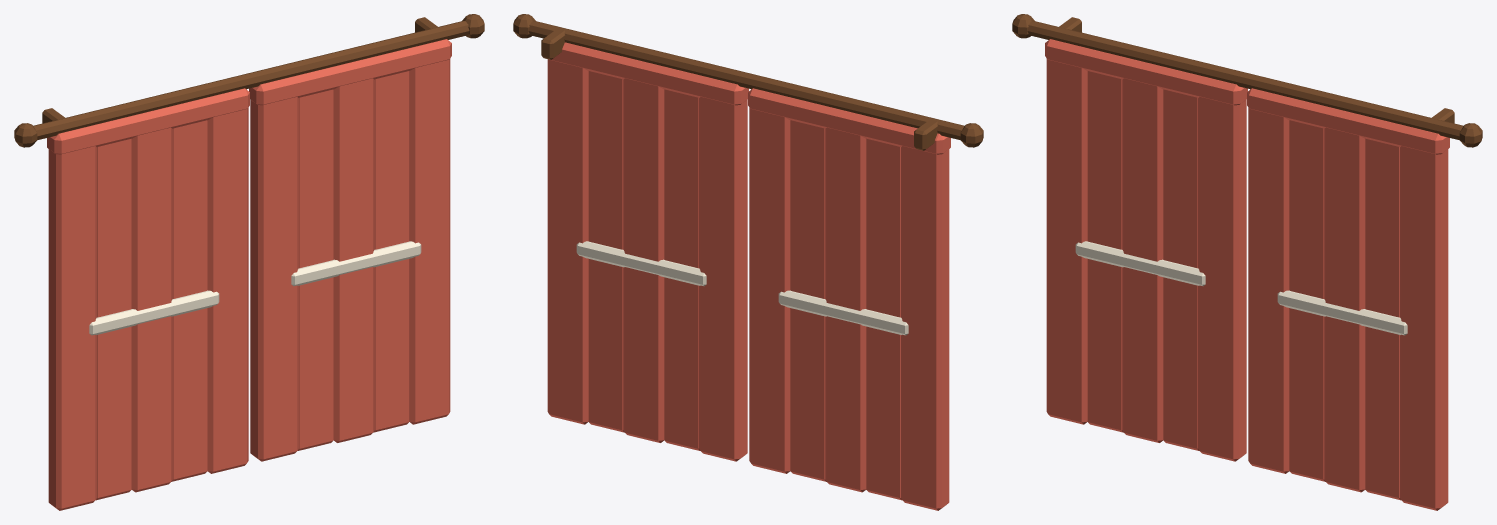
Rendered from window_curtains.glb.
The picture shows the model from 3 angles, left to right: view 1: azimuth 30°, elevation 25°; view 2: azimuth 150°, elevation 25°; view 3: azimuth 330°, elevation 25°; orthographic projection.
Visible parts, largest first — view 1: part_curtain_l, part_curtain_r, window_curtains; view 2: part_curtain_r, part_curtain_l, window_curtains; view 3: part_curtain_r, part_curtain_l, window_curtains.
Boxes of the visible parts, left/top/right/bottom form: part_curtain_l: left=47, top=88, right=249, bottom=510; part_curtain_r: left=249, top=39, right=451, bottom=461; window_curtains: left=14, top=14, right=484, bottom=147; part_curtain_r: left=547, top=42, right=748, bottom=461; part_curtain_l: left=748, top=88, right=950, bottom=510; window_curtains: left=513, top=14, right=983, bottom=150; part_curtain_r: left=1247, top=88, right=1449, bottom=510; part_curtain_l: left=1045, top=39, right=1247, bottom=461; window_curtains: left=1012, top=14, right=1482, bottom=147.
Size of the model in its own units: 1.51 by 1.21 by 0.13.
